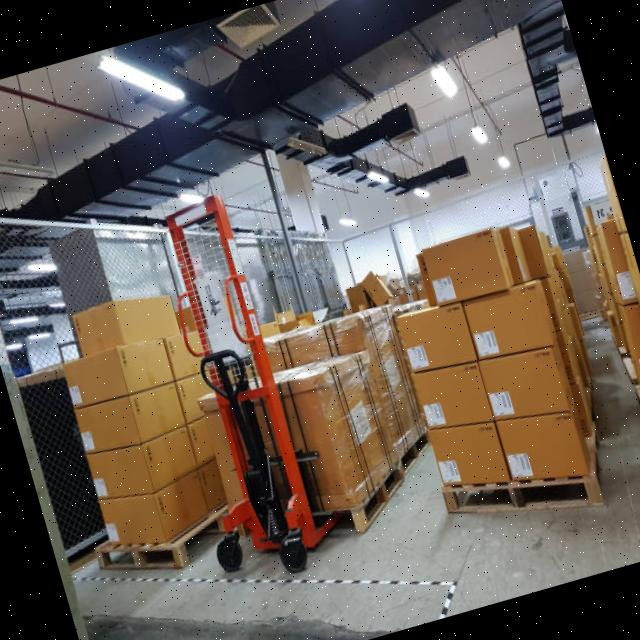Wooden-Pallets: (442, 470, 602, 516), (352, 454, 414, 544), (89, 539, 182, 572)
